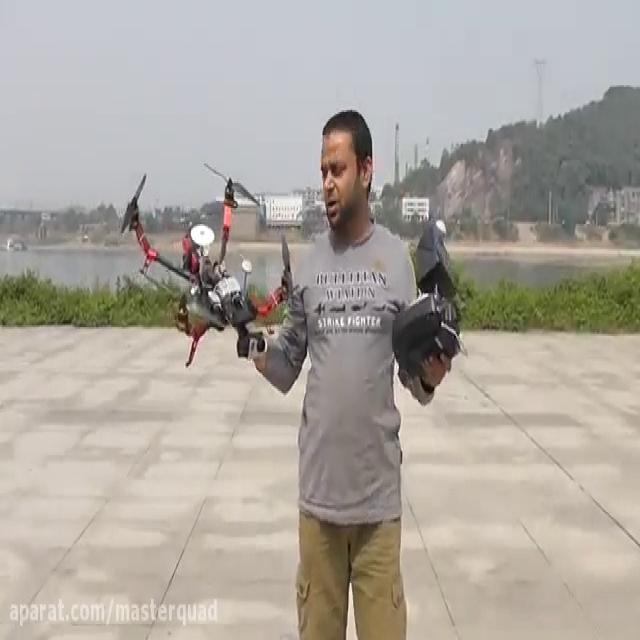drone: (117, 160, 296, 370)
